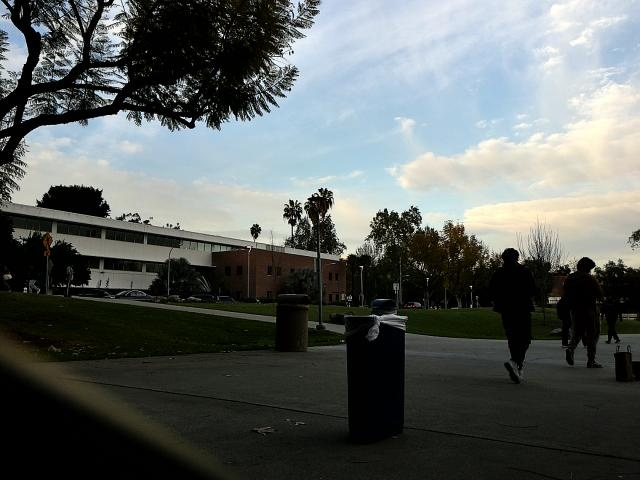trashcan_open: (340, 313, 406, 443)
